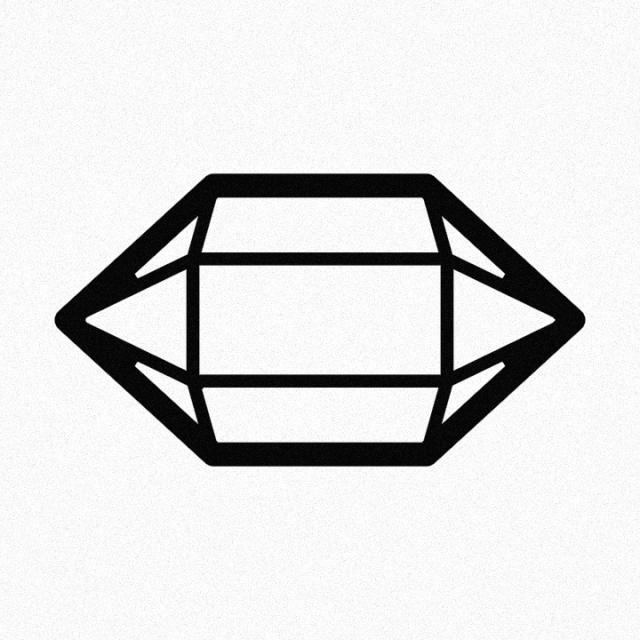crystal: (42, 167, 596, 480)
